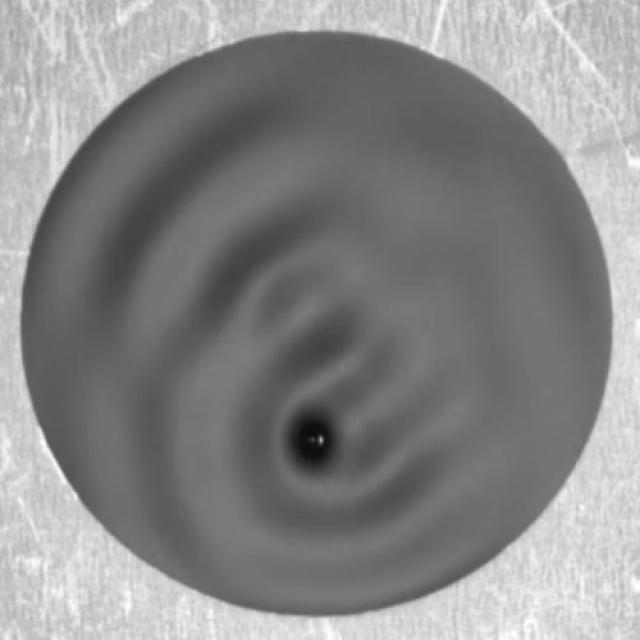droplet: (292, 418, 338, 464)
